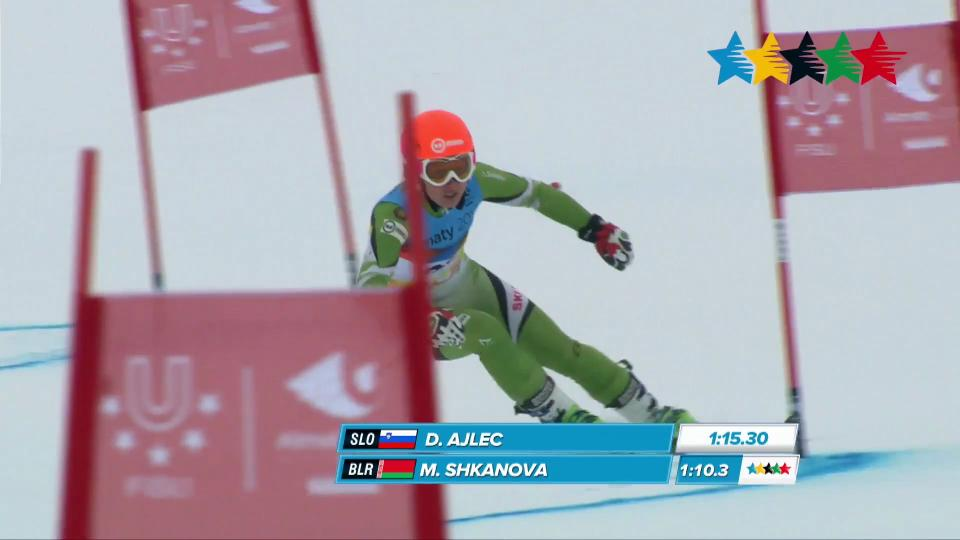gate: (737, 0, 839, 487)
